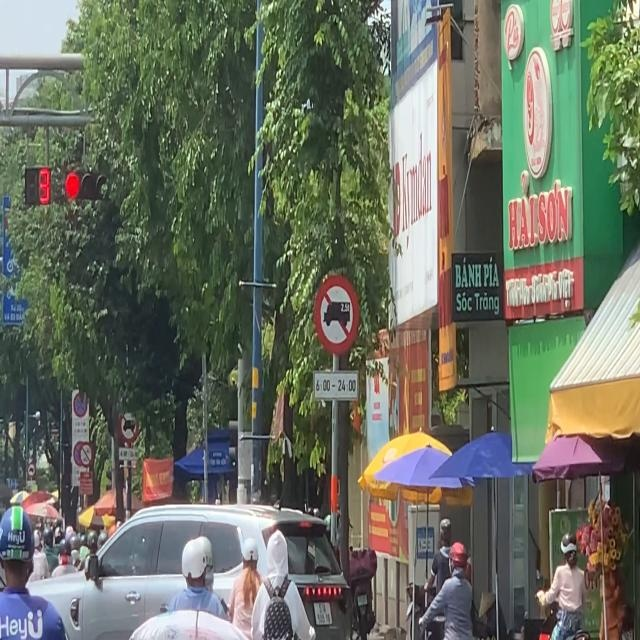bien_cam: (313, 267, 357, 354)
